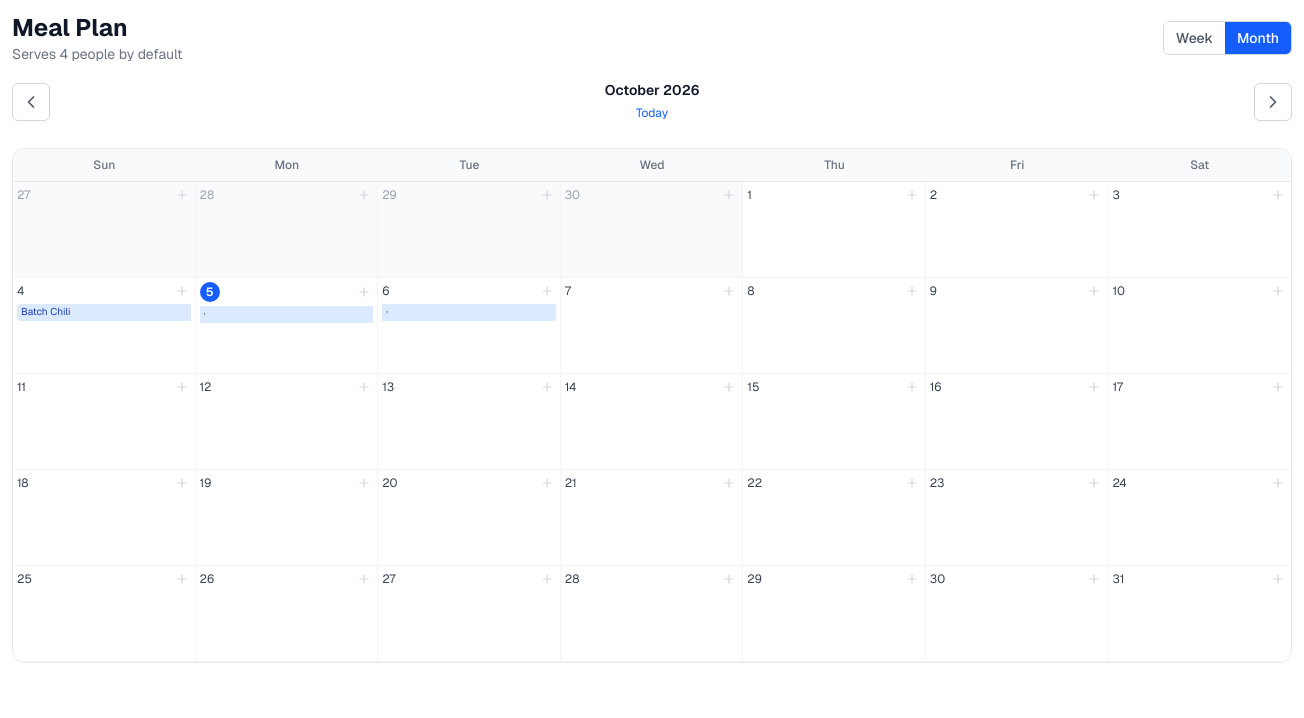
Scenario: MealCalendarPage › renders a multi-day meal-prep entry as leftovers on continuation days (week view)
Click the button "Week".
click(1194, 38)  # box [1164,22,1225,54]
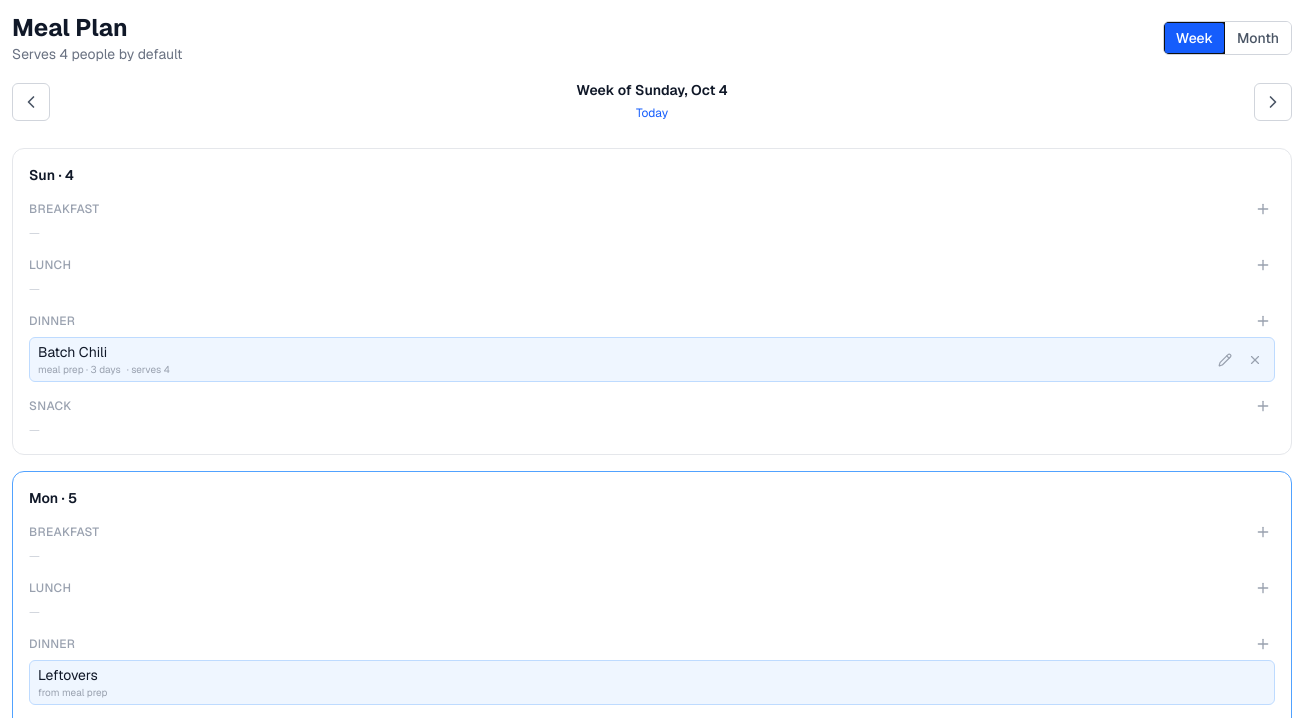
Expected: the text "Batch Chili" is shown, [38,343,107,361]
Now the text "meal prep · 3 days" is shown, box [38,362,121,377]
Now the text "Leftovers" is shown 2 times
